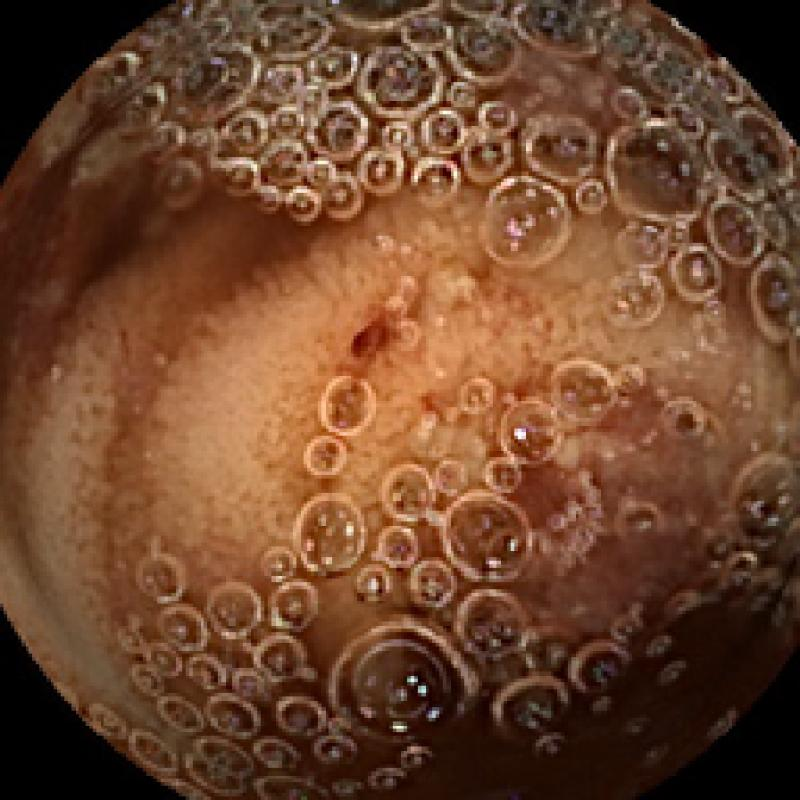bleeding: (403, 395, 594, 582), (338, 312, 423, 384)
